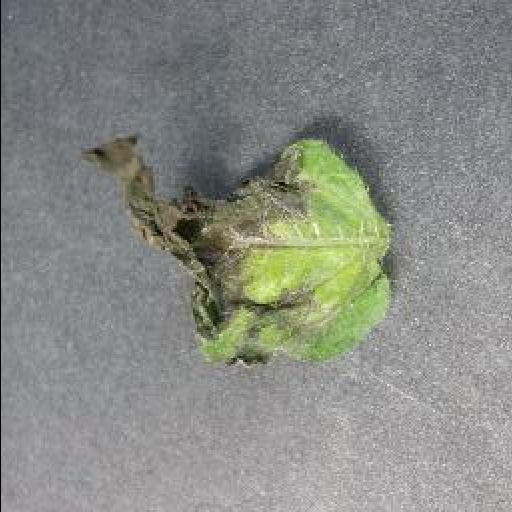disease_tomato: (74, 134, 394, 372)
